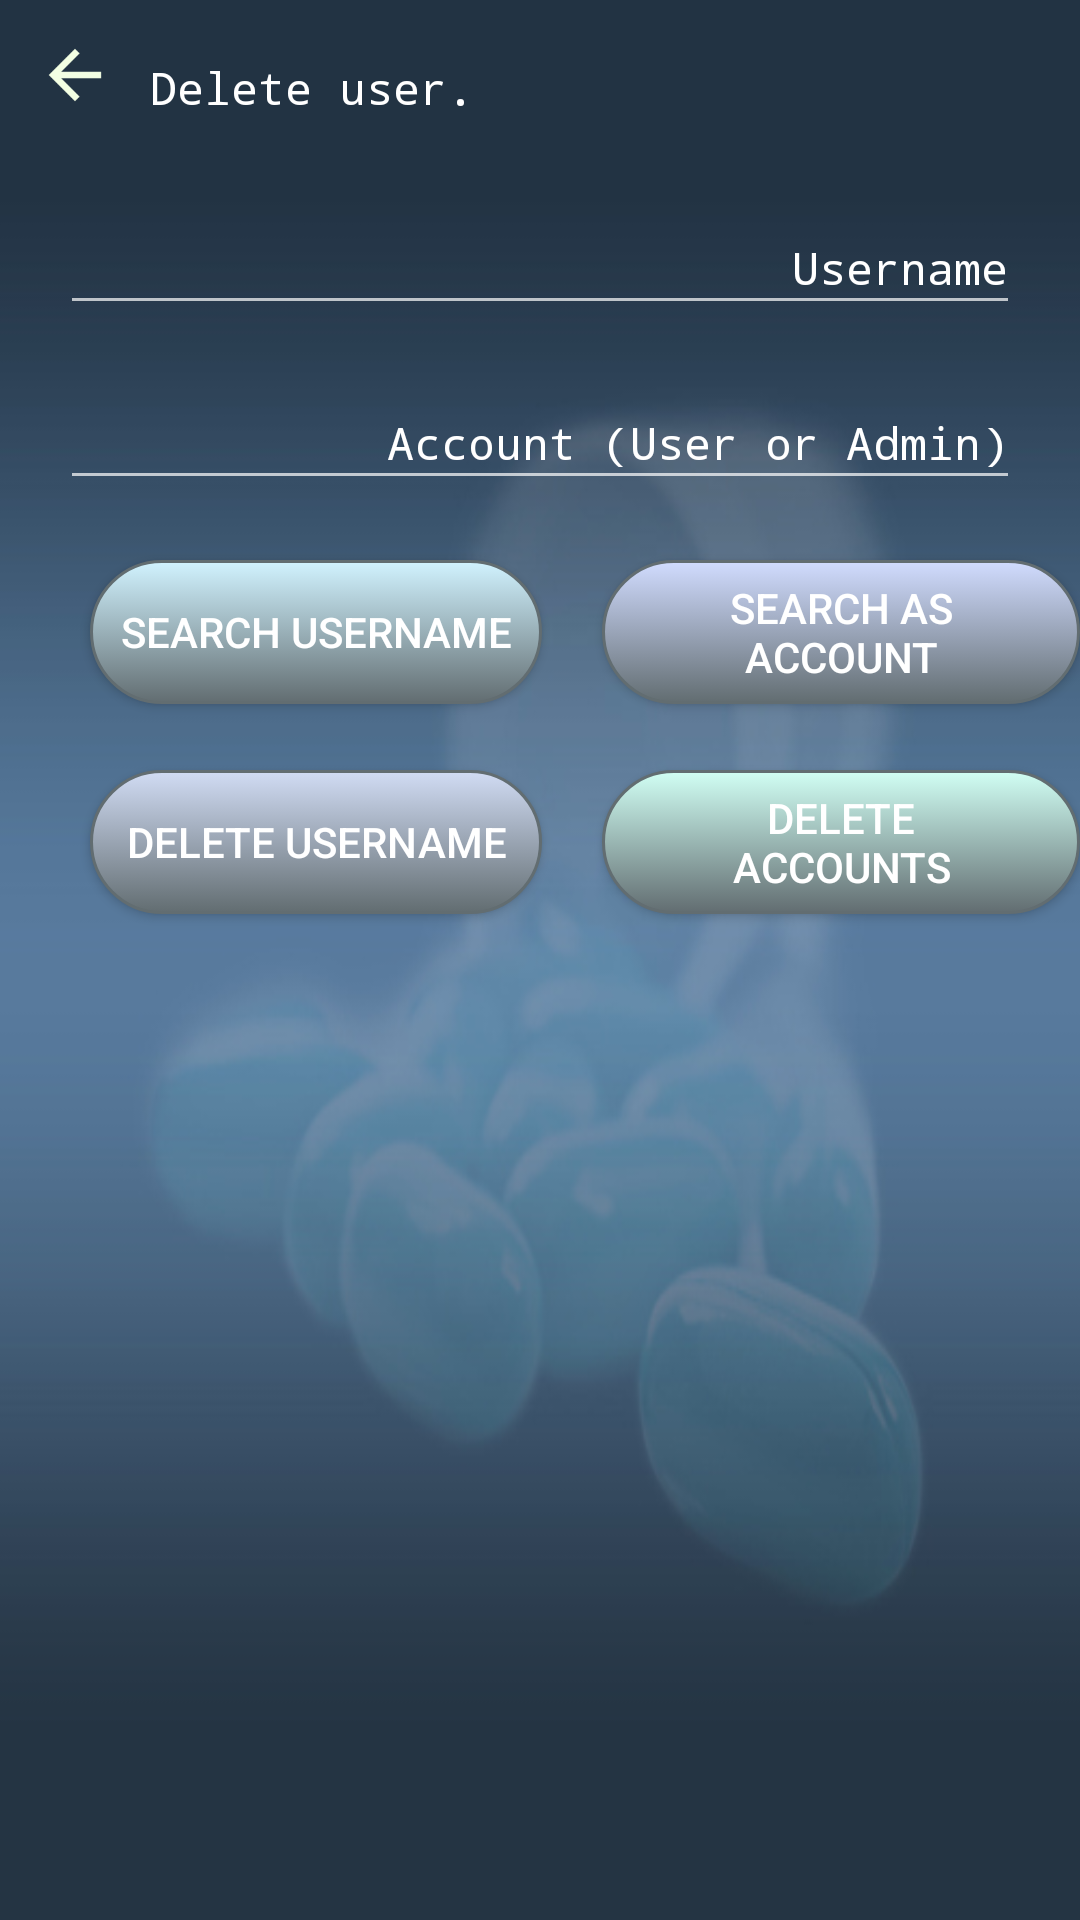

Where to tap for icons on this 1080*1920 app screen, as [x,y]:
arrow back: [75,75]
